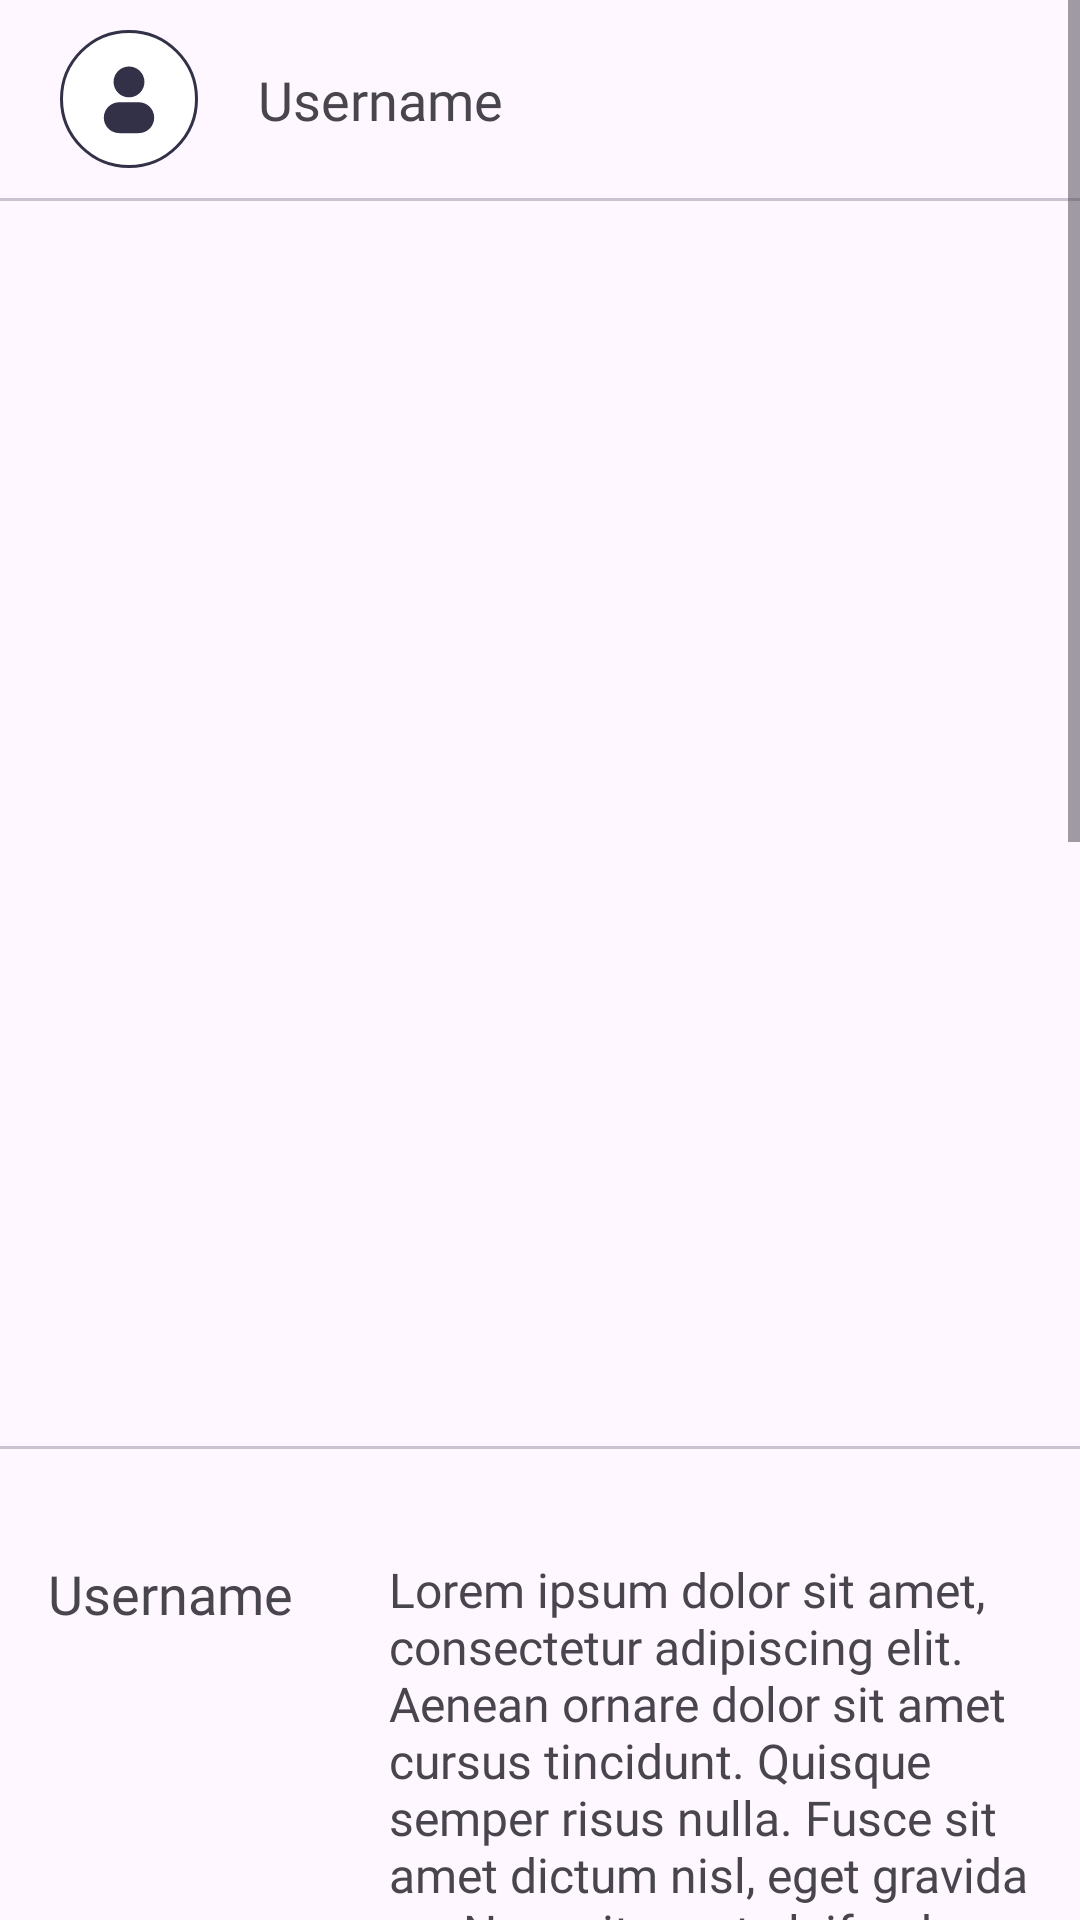

Where to tap for icons on this 1080px x 1920px app screen, as [x,y]:
profile: [129,99]
